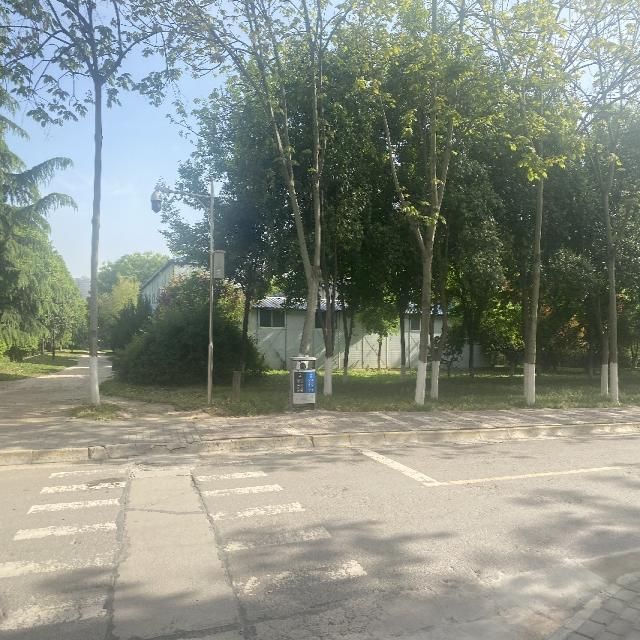garbage_bin: (289, 354, 316, 411)
